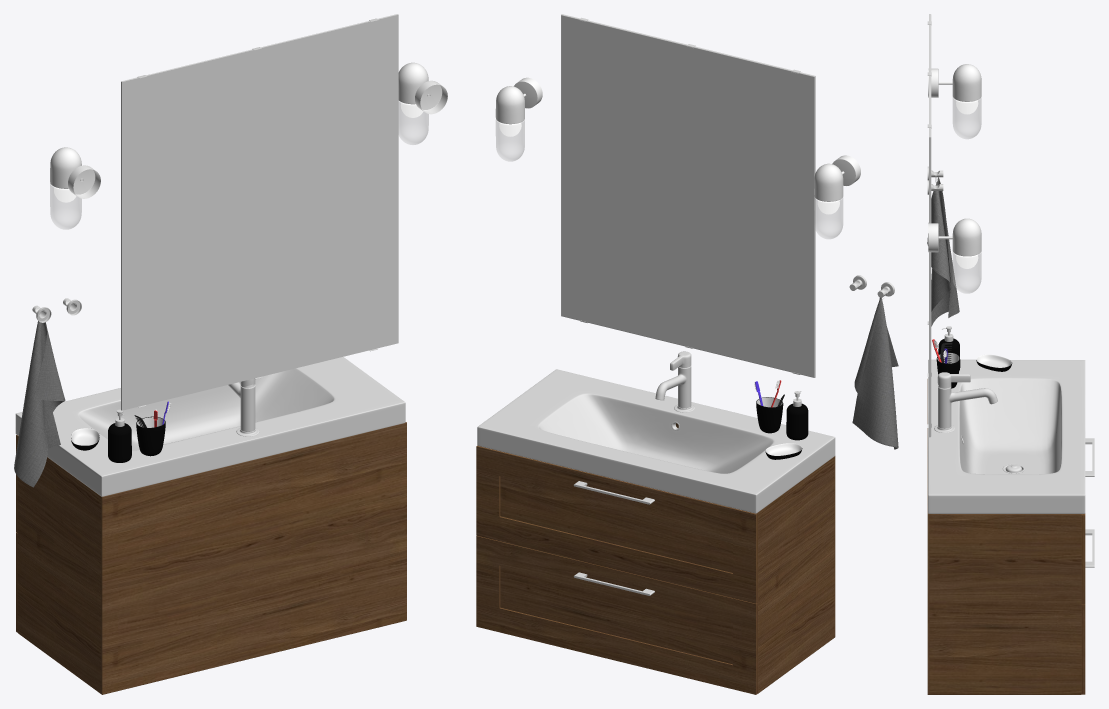
File: Bathroom Furniture_draco.glb
The picture shows the model from 3 angles, left to right: view 1: azimuth 30°, elevation 25°; view 2: azimuth 150°, elevation 25°; view 3: azimuth 270°, elevation 25°; orthographic projection. The views are drawn at different scales.
Parts seen in each view (by area): view 1: mirror, box, sink, towel, lamp.001, lamp, faucet, brush_cup, soap_bottle; view 2: mirror, box, sink, towel, lamp, lamp.001, faucet, brush_cup, soap_bottle; view 3: box, sink, towel, lamp, lamp.001, mirror, faucet, soap_plate, brush_cup, faucet_control.
Boxes of the visible parts, <box> form: mirror: <box>121,14,398,410</box>; box: <box>16,422,406,694</box>; sink: <box>15,357,405,496</box>; towel: <box>14,312,65,487</box>; lamp.001: <box>50,147,100,229</box>; lamp: <box>398,62,447,144</box>; faucet: <box>228,382,259,436</box>; brush_cup: <box>136,416,165,456</box>; soap_bottle: <box>108,423,131,462</box>; mirror: <box>561,14,815,377</box>; box: <box>476,423,835,694</box>; sink: <box>477,369,835,513</box>; towel: <box>852,291,898,449</box>; lamp: <box>495,77,542,161</box>; lamp.001: <box>814,155,860,238</box>; faucet: <box>655,366,694,412</box>; brush_cup: <box>756,397,783,433</box>; soap_bottle: <box>786,403,808,440</box>; box: <box>927,379,1085,694</box>; sink: <box>928,359,1085,513</box>; towel: <box>927,172,959,326</box>; lamp: <box>928,218,981,293</box>; lamp.001: <box>928,64,981,138</box>; mirror: <box>929,14,931,437</box>; faucet: <box>934,385,997,432</box>; soap_plate: <box>976,354,1012,371</box>; brush_cup: <box>936,352,959,388</box>; faucet_control: <box>937,372,970,388</box>.
Bounding box in the file's own units: 7.73 × 10.61 × 2.9.
12 materials, 2 textured.
